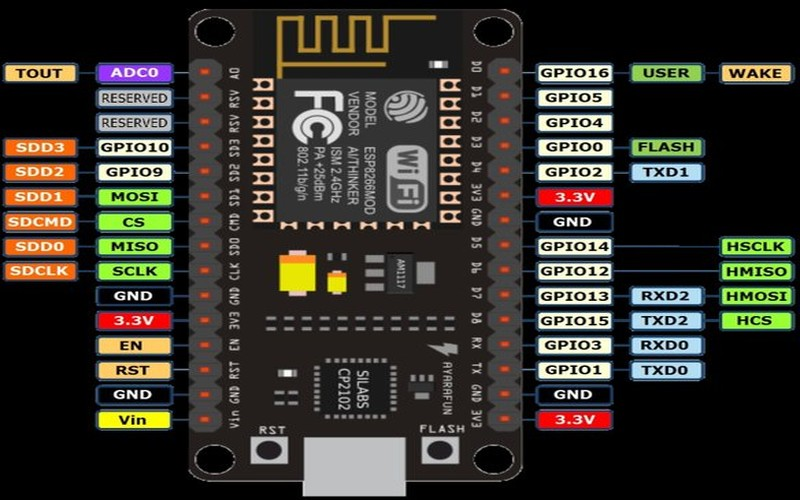IoT Sensor: (181, 4, 529, 496)
